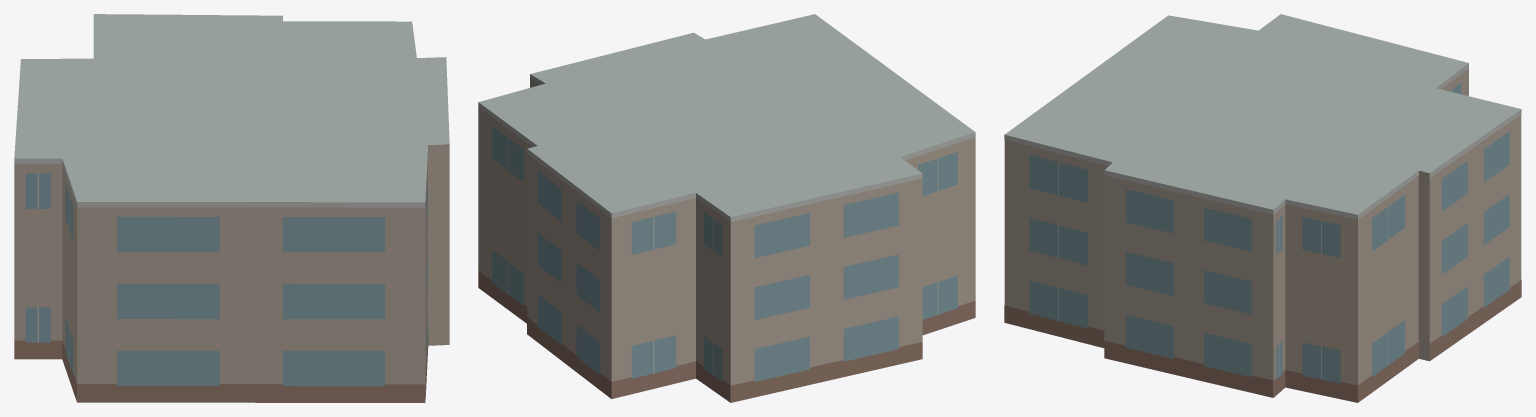
The model's file is survey-upis-32492537.glb.
The picture shows the model from 3 angles, left to right: view 1: azimuth 30°, elevation 25°; view 2: azimuth 150°, elevation 25°; view 3: azimuth 270°, elevation 25°; orthographic projection. The views are drawn at different scales.
Parts seen in each view (by area): view 1: survey-upis-32492537.tmp; view 2: survey-upis-32492537.tmp; view 3: survey-upis-32492537.tmp.
Boxes of the visible parts, x1,y1,x2,y2 form: survey-upis-32492537.tmp: (14, 14, 449, 402); survey-upis-32492537.tmp: (478, 14, 975, 402); survey-upis-32492537.tmp: (1004, 14, 1521, 402).
Size of the model in its own units: 21.07 by 9.2 by 22.93.
